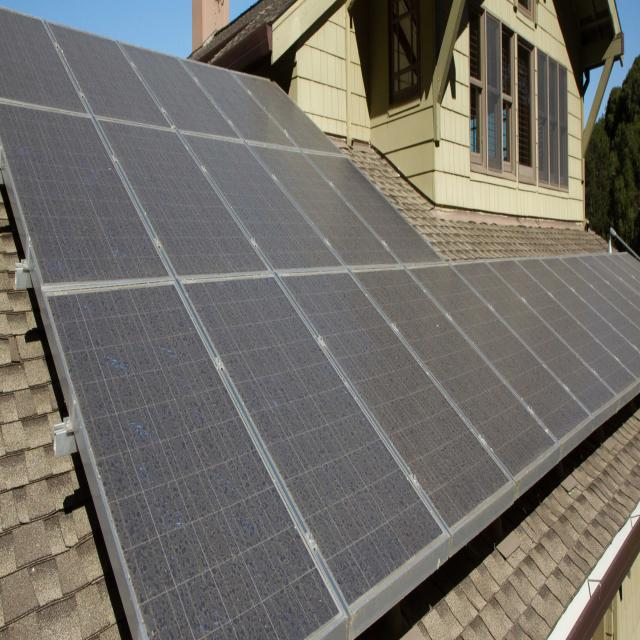dust-solar-panel: (0, 5, 640, 640)
